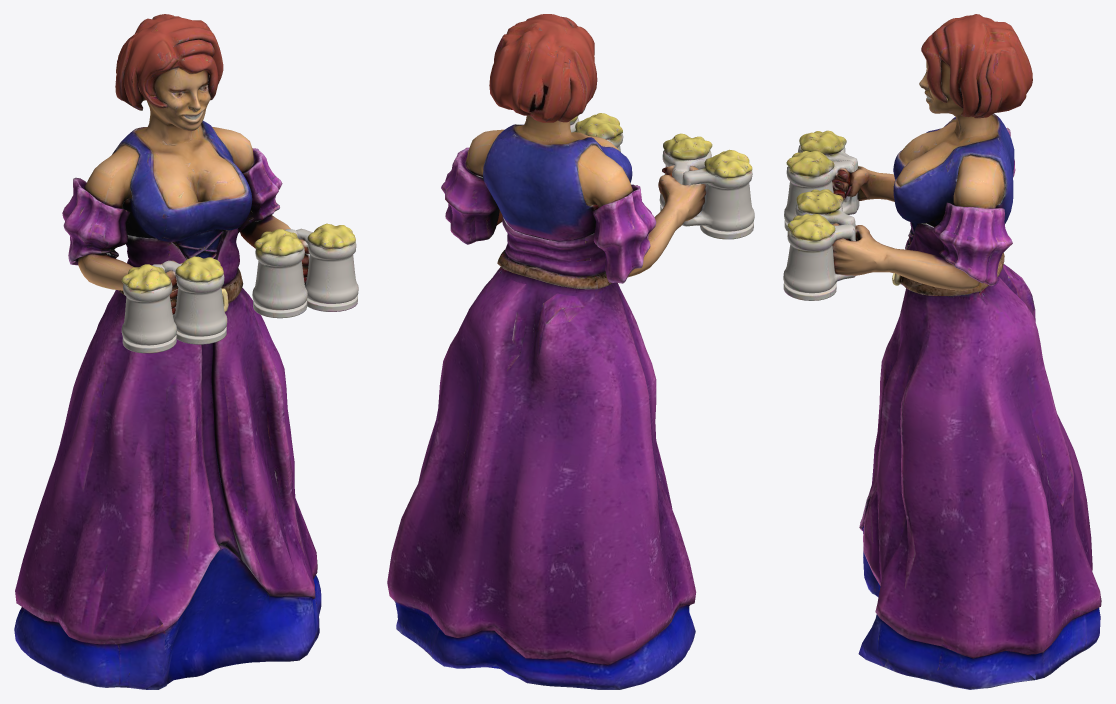
Rendered from MZ4250 - Barmaid.glb.
3 renders of one model, left to right at view 1: azimuth 30°, elevation 25°; view 2: azimuth 150°, elevation 25°; view 3: azimuth 270°, elevation 25°, orthographic.
Parts seen in each view (by area): view 1: MZ4250 - Barmaid; view 2: MZ4250 - Barmaid; view 3: MZ4250 - Barmaid.
Boxes of the visible parts, bbox=[...] form: MZ4250 - Barmaid: bbox=[14, 14, 358, 689]; MZ4250 - Barmaid: bbox=[387, 14, 754, 689]; MZ4250 - Barmaid: bbox=[783, 14, 1101, 689].
Size of the model in its own units: 0.4946 by 1.04 by 0.496.
Materials: 1 (1 with a texture image).
